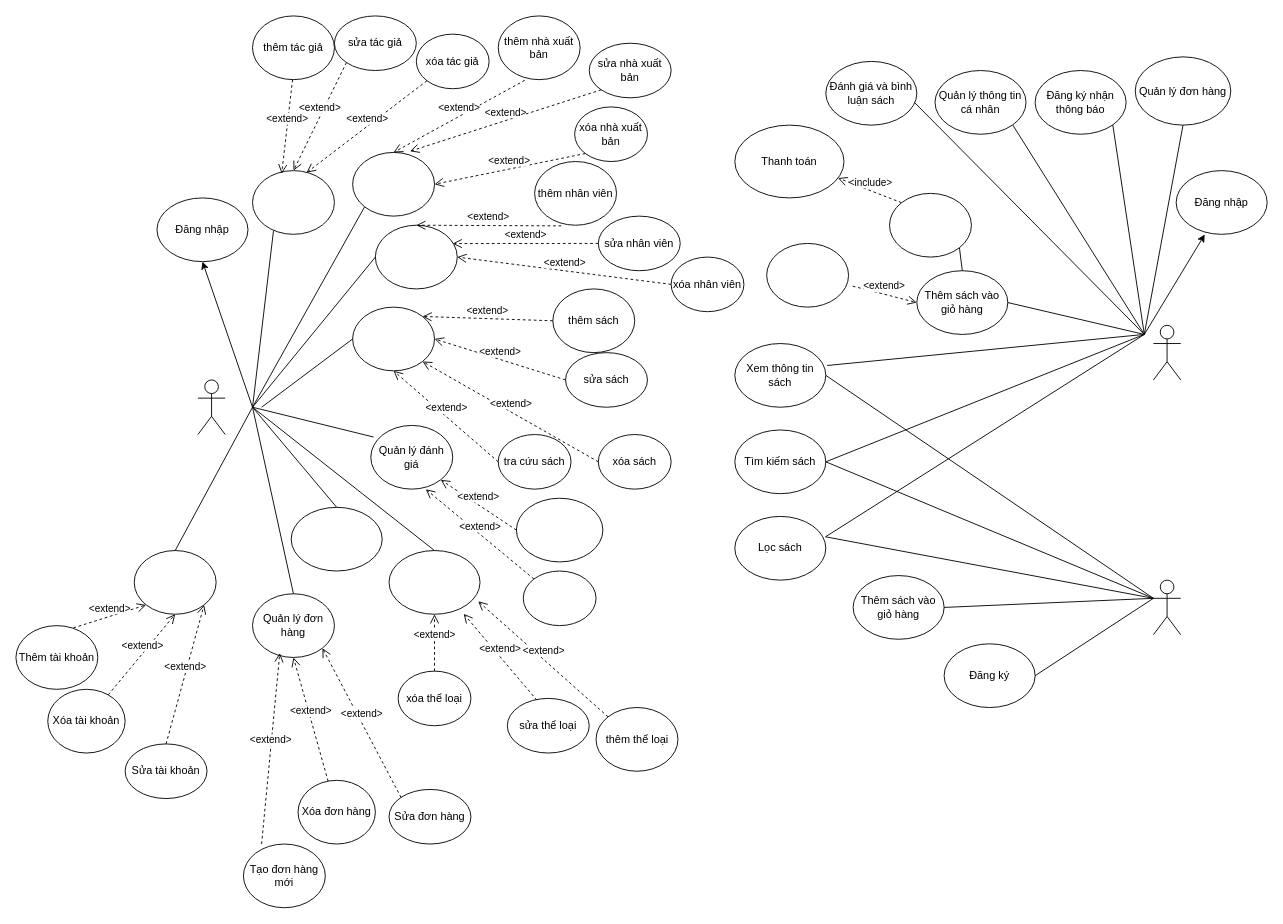
Image size: 1283x924. Some labels were removed from this diagram. The shapes that lost their labels are listed below. From the top down, each one's centre as x and y in pixels, then its label:
At pixel 293 202: "Quản lý tác giả".
At pixel 393 184: "Quản lý nhà xuất bản".
At pixel 930 224: "Mua sách".
At pixel 415 256: "Quản lý nhân viên".
At pixel 807 275: "Chỉnh sửa giỏ hàng".
At pixel 393 338: "Quản lý sách".
At pixel 1167 352: "Customer".
At pixel 211 407: "Admin".
At pixel 336 538: "Xem thống kê".
At pixel 559 529: "tra cứu đánh giá".
At pixel 174 582: "Quản lý tài khoản".
At pixel 434 582: "Quản lý thể loại".
At pixel 559 598: "xóa đánh giá".
At pixel 1167 607: "Guest".
